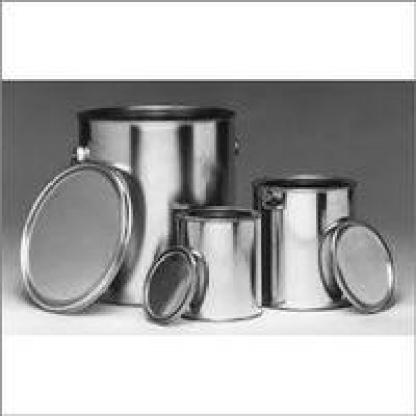METAL: (77, 104, 237, 304), (17, 160, 131, 312), (250, 175, 352, 312), (173, 206, 260, 320), (329, 216, 395, 310), (141, 246, 200, 320)
